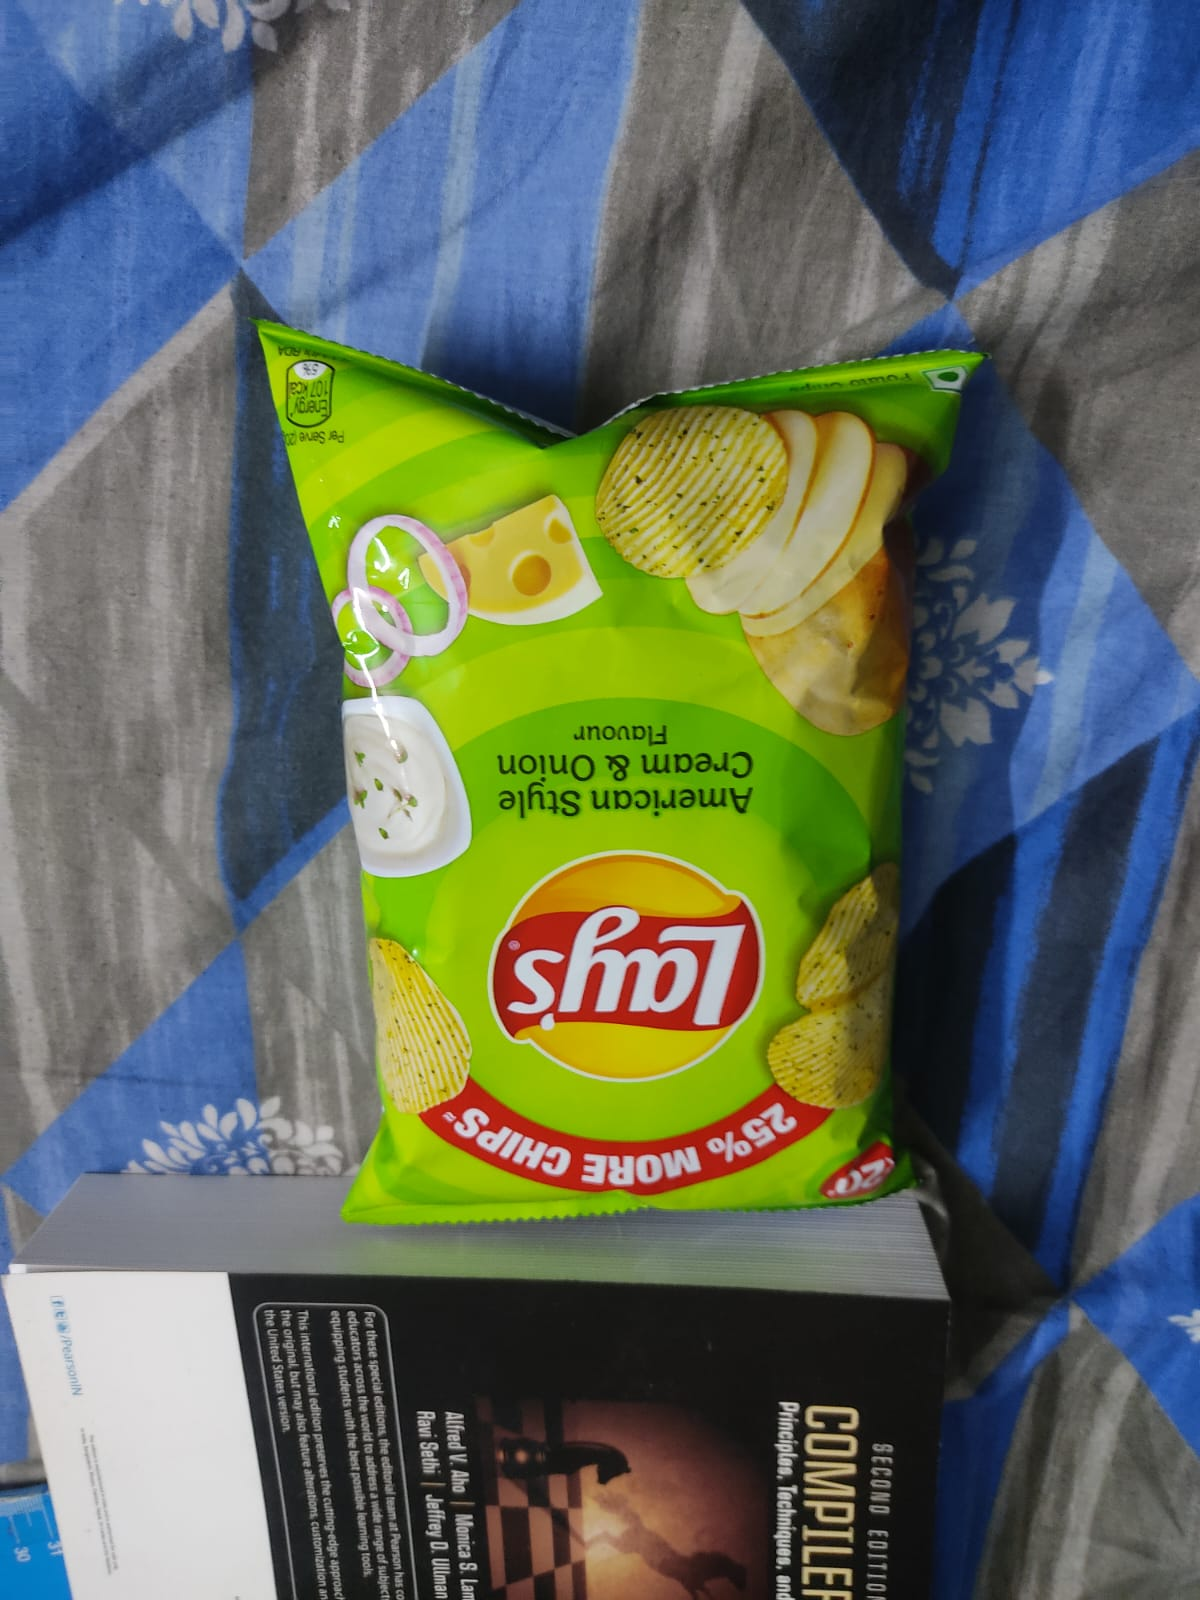020_GreenLays: (279, 360, 915, 1192)
